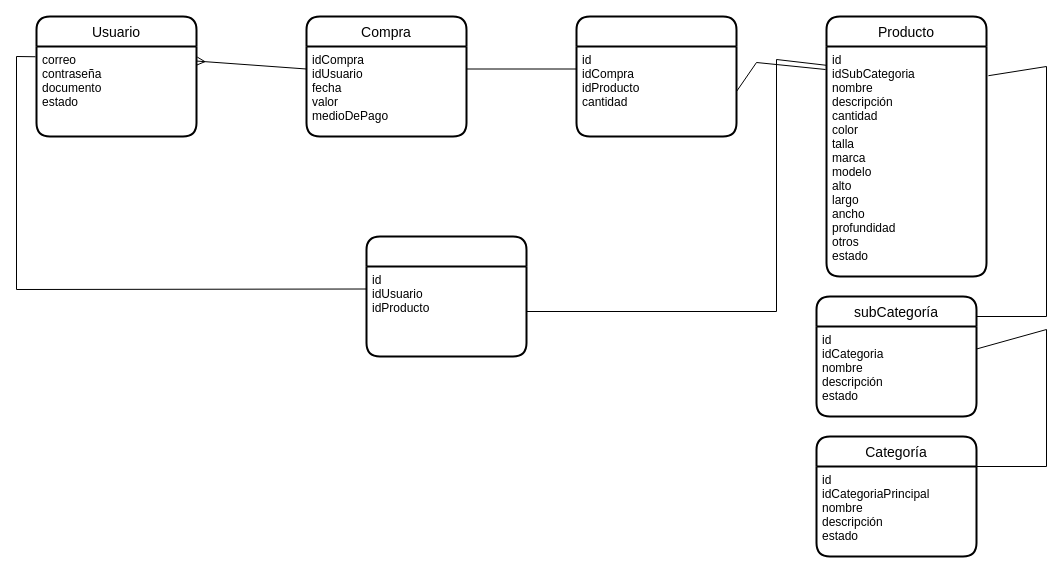
Image size: 1063x573. Some labels were removed from this diagram. Each missing label, with the box of its shape:
CompraProducto: (575, 15, 737, 137)
Favoritos: (365, 235, 527, 357)
